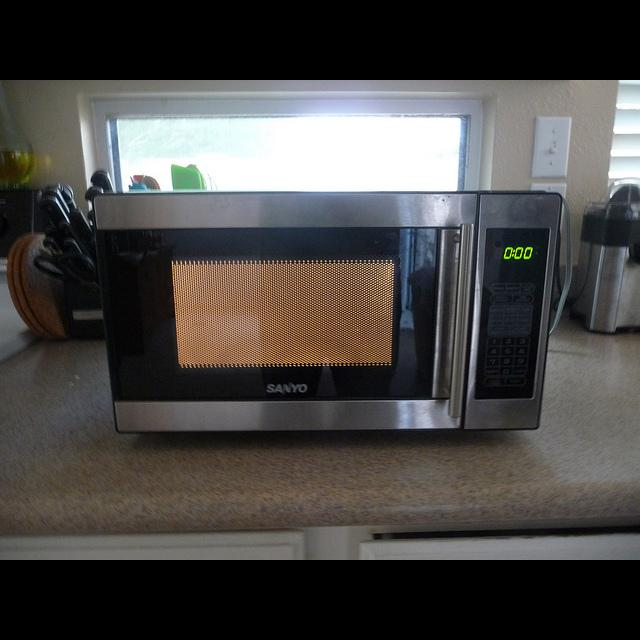Microwave: (90, 194, 561, 437)
